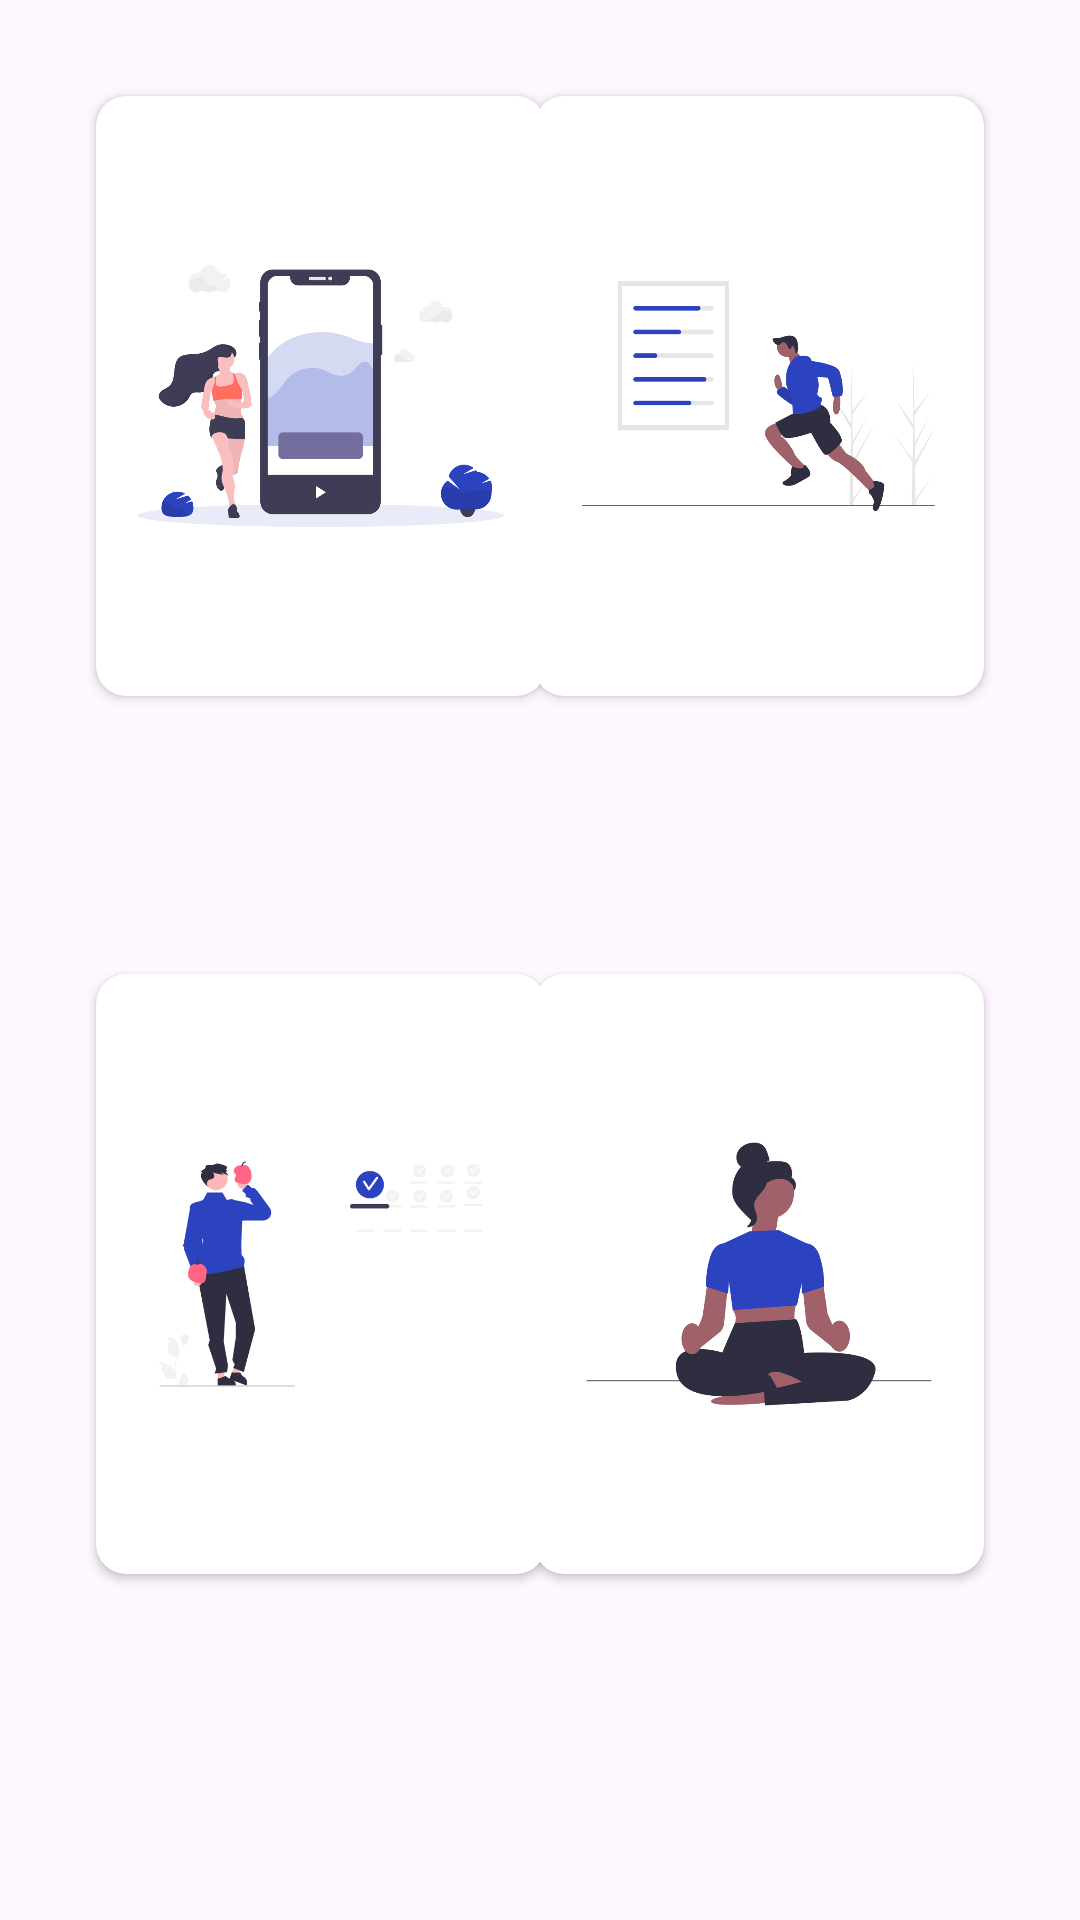

Point at icon controls on the screen. Image size 1080px x 1920px, points as [x,y].
pedometer: [758,396]
